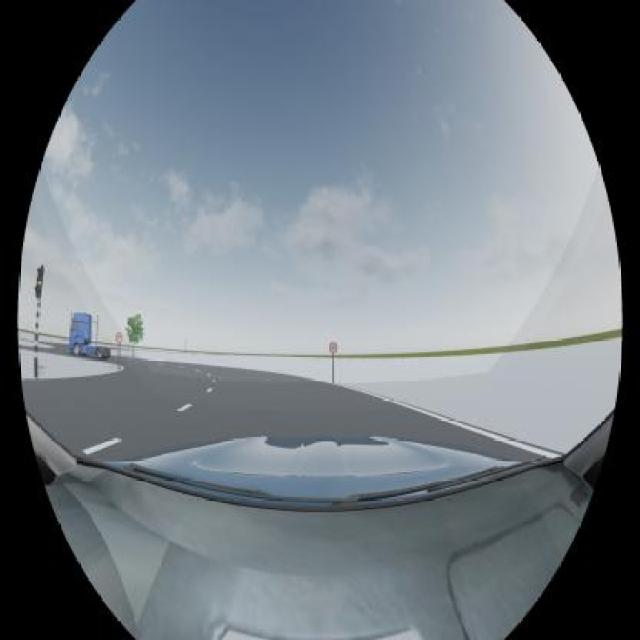forb_speed_over_80: (329, 341, 337, 353)
